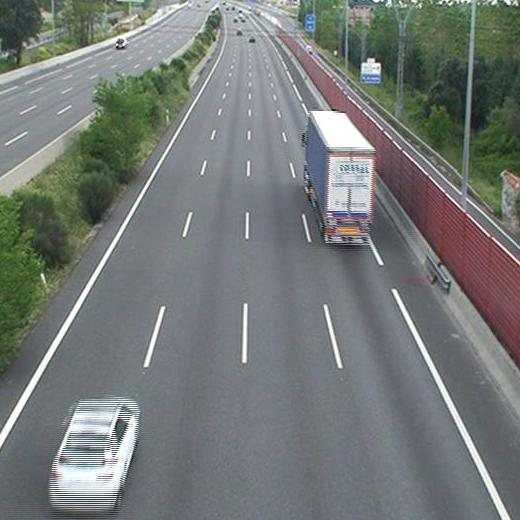car: (48, 398, 138, 510)
truck: (303, 112, 374, 243)
